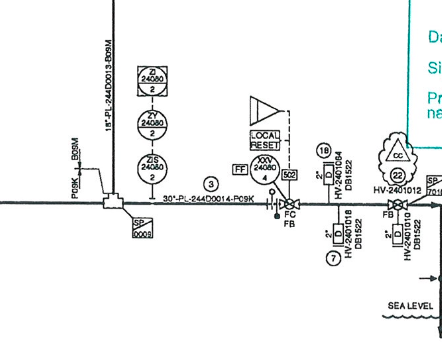Instrument: (134, 106, 171, 143), (134, 150, 169, 186), (247, 152, 281, 187)
Instrument-square: (132, 61, 171, 101)
